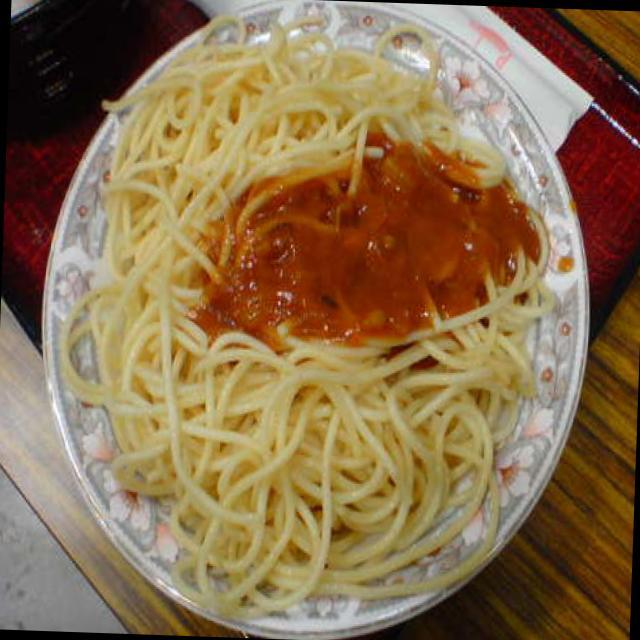Pasta: (35, 12, 583, 608)
